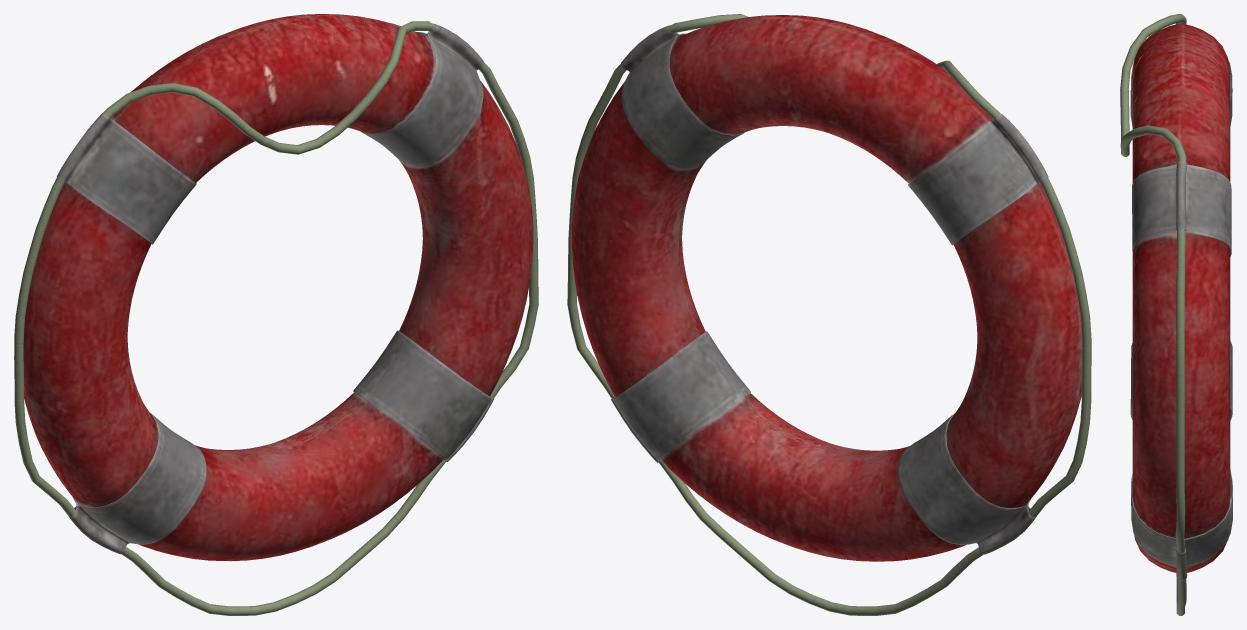
File: lifebuoy.glb
The picture shows the model from 3 angles, left to right: view 1: azimuth 30°, elevation 25°; view 2: azimuth 150°, elevation 25°; view 3: azimuth 270°, elevation 25°; orthographic projection. The views are drawn at different scales.
Visible parts, largest first — view 1: lifebuoy; view 2: lifebuoy; view 3: lifebuoy.
Boxes of the visible parts, box(x1,y1,x2,y2) form: lifebuoy: box(14, 14, 538, 615); lifebuoy: box(567, 14, 1091, 615); lifebuoy: box(1120, 14, 1232, 615).
Size of the model in its own units: 0.7832 by 0.8412 by 0.1551.
1 material, 1 textured.
